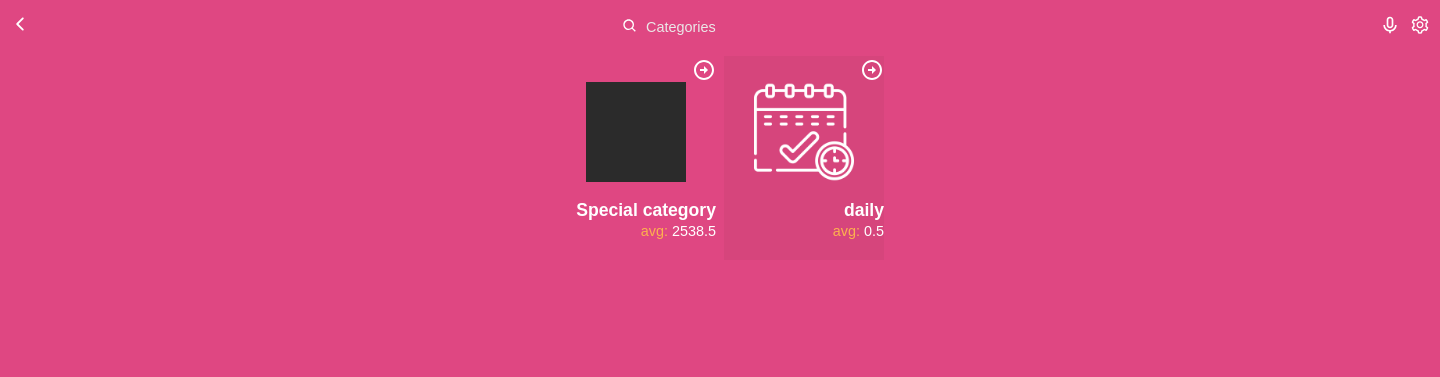
it: CategoryList Component Test › User interaction
Expected: the text "VicPeralta" is not shown
Expected: the text "kasparov" is not shown
// From the category list, navigates to leaderboard
Click the link "Special category avg: 2538.5" at (636, 158), box [556,56,716,260]
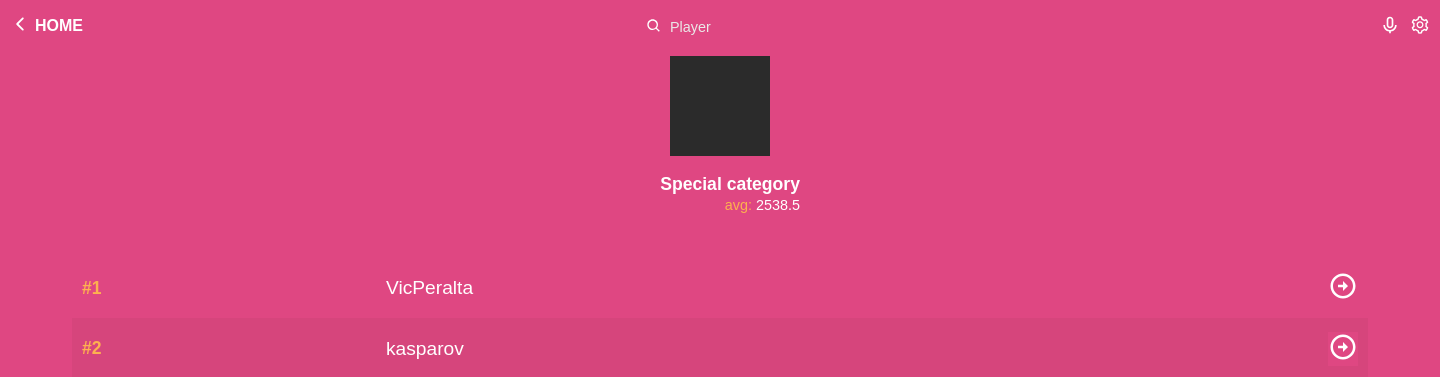
Expected: the text "VicPeralta" is shown, [386,277,473,298]
Expected: the text "kasparov" is shown, [386,338,464,359]
